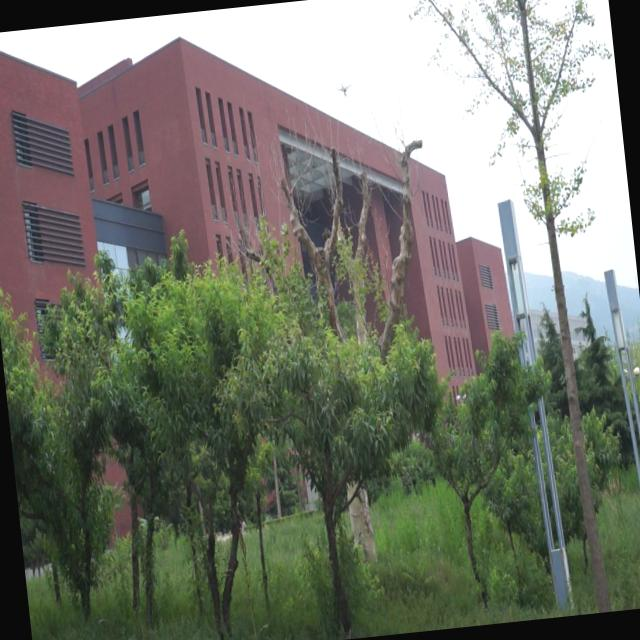drone: (333, 79, 354, 102)
